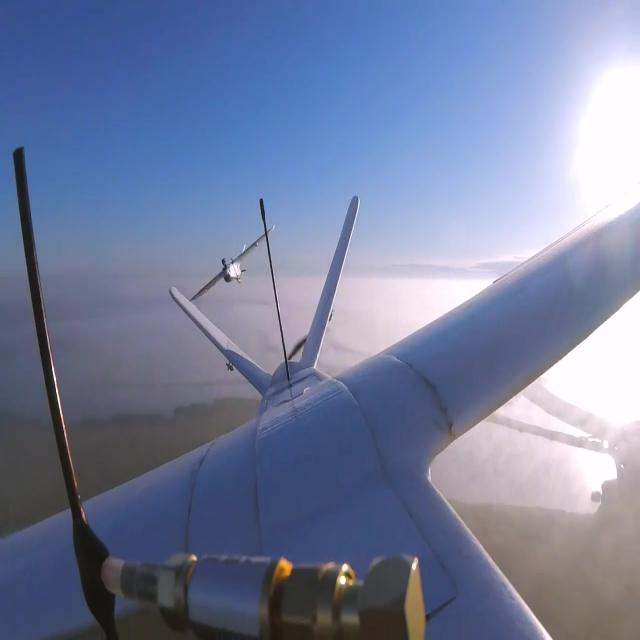iha: (222, 249, 245, 263)
